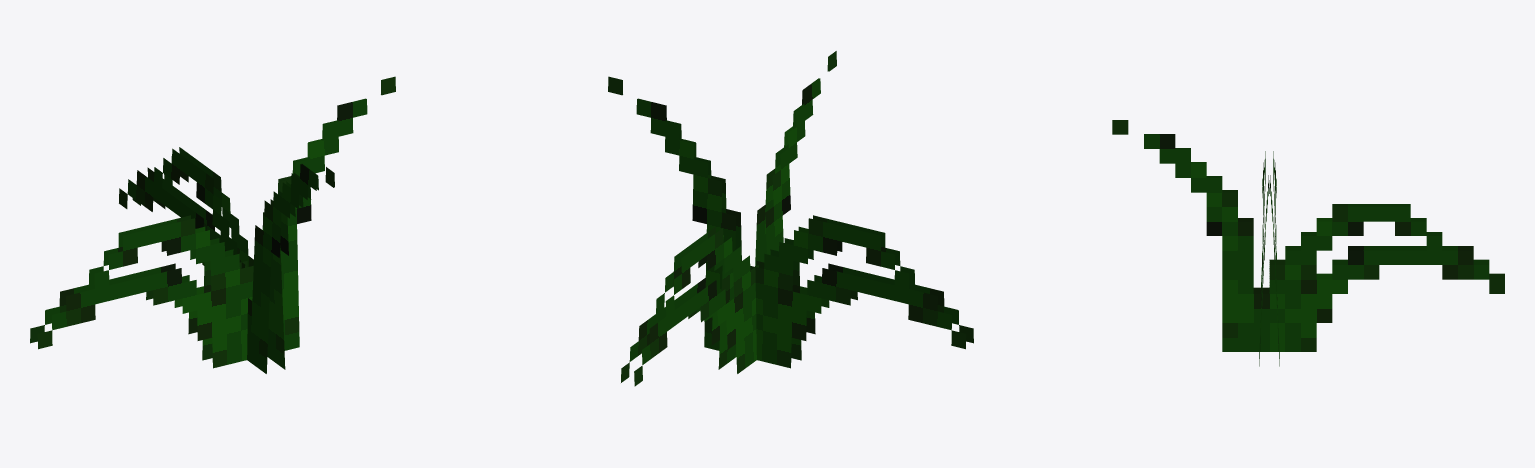
The model's file is grass02_spring.glb.
The picture shows the model from 3 angles, left to right: view 1: azimuth 30°, elevation 25°; view 2: azimuth 150°, elevation 25°; view 3: azimuth 270°, elevation 25°; orthographic projection. The views are drawn at different scales.
Visible parts, largest first — view 1: grass02; view 2: grass02; view 3: grass02.
Boxes of the visible parts, <box> form: grass02: <box>30,76,395,373</box>; grass02: <box>608,51,973,386</box>; grass02: <box>1112,120,1504,366</box>.
Size of the model in its own units: 0.4 by 0.2 by 0.4.
1 material, 1 textured.
